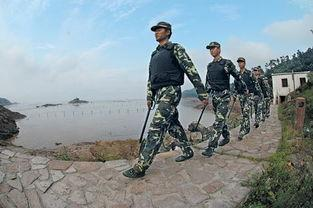up: (116, 21, 209, 181), (197, 40, 242, 158), (232, 56, 260, 142), (250, 67, 267, 127), (262, 74, 273, 119)
